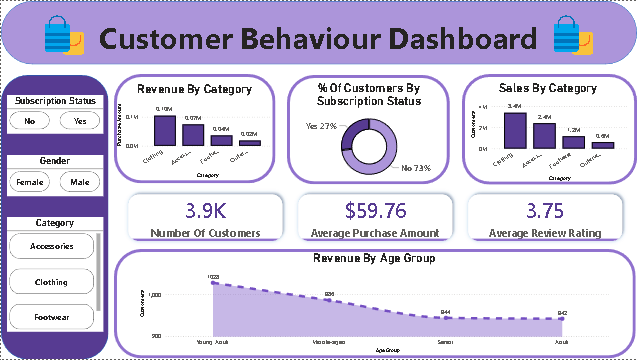

The dashboard page shown, as its layout file describes it:
{"tool":"powerbi","page":{"name":"Customer Behaviour Dashboard","canvas":[1280,720],"ordinal":0},"visuals":[{"type":"cardVisual","fields":{"Data":["CountNonNull(public customer.customer_id)","Avg(public customer.purchase_amount)","Avg(public customer.review_rating)"]},"box":[227.4,360.3,1052.1,152.1],"z":0},{"type":"shape","box":[0,0,1280,127.5],"z":1000},{"type":"textbox","box":[0,5.1,1279.5,123.1],"z":2000},{"type":"shape","box":[575.5,148.6,327.5,220],"z":3000},{"type":"donutChart","title":"% Of Customers By Subscription Status","fields":{"Category":["public customer.subscription_status"],"Y":["CountNonNull(public customer.customer_id)"]},"box":[563,161.1,355,210],"z":4000},{"type":"shape","box":[227.5,147.5,325,220],"z":5000},{"type":"clusteredColumnChart","title":"Revenue By Category","fields":{"Y":["Sum(public customer.purchase_amount)"],"Category":["public customer.category"]},"box":[227.5,162.5,325,197.5],"z":6000},{"type":"shape","box":[927.5,147.5,352.5,222.5],"z":7000},{"type":"clusteredColumnChart","title":"Sales By Category","fields":{"Category":["public customer.category"],"Y":["Sum(public customer.customer_id)"]},"box":[940.7,161.1,324.8,207.1],"z":8000},{"type":"shape","box":[227.5,500,1050,220],"z":9000},{"type":"stackedAreaChart","title":"Revenue By Age Group","fields":{"Category":["public customer.age_group"],"Y":["CountNonNull(public customer.customer_id)"]},"box":[274,504.1,954.8,209.6],"z":10000},{"type":"shape","box":[0,147.9,216.4,572.6],"z":11000},{"type":"advancedSlicerVisual","title":"Subscription Status","fields":{"Values":["public customer.subscription_status"]},"box":[11.5,189.7,193.6,78.2],"z":12000},{"type":"advancedSlicerVisual","title":"Category","fields":{"Values":["public customer.category"]},"box":[11.5,434.6,193.6,230.8],"z":13000},{"type":"advancedSlicerVisual","title":"Gender","fields":{"Values":["public customer.gender"]},"box":[11.5,309,193.6,83.3],"z":14000}]}

Visuals, with their boxes in screenshot pixels (x1, y1, x2, y2), scaled from the page's 1280x720 canvas onto the 637x360 screenshot:
cardVisual - CountNonNull(public customer.customer_id) x Avg(public customer.purchase_amount): left=113, top=180, right=636, bottom=256
shape: left=0, top=0, right=636, bottom=64
textbox: left=0, top=3, right=636, bottom=64
shape: left=286, top=74, right=449, bottom=184
"% Of Customers By Subscription Status" donutChart: left=280, top=81, right=457, bottom=186
shape: left=113, top=74, right=275, bottom=184
"Revenue By Category" clusteredColumnChart: left=113, top=81, right=275, bottom=180
shape: left=462, top=74, right=636, bottom=185
"Sales By Category" clusteredColumnChart: left=468, top=81, right=630, bottom=184
shape: left=113, top=250, right=636, bottom=359
"Revenue By Age Group" stackedAreaChart: left=136, top=252, right=612, bottom=357
shape: left=0, top=74, right=108, bottom=359
"Subscription Status" advancedSlicerVisual: left=6, top=95, right=102, bottom=134
"Category" advancedSlicerVisual: left=6, top=217, right=102, bottom=333
"Gender" advancedSlicerVisual: left=6, top=154, right=102, bottom=196
